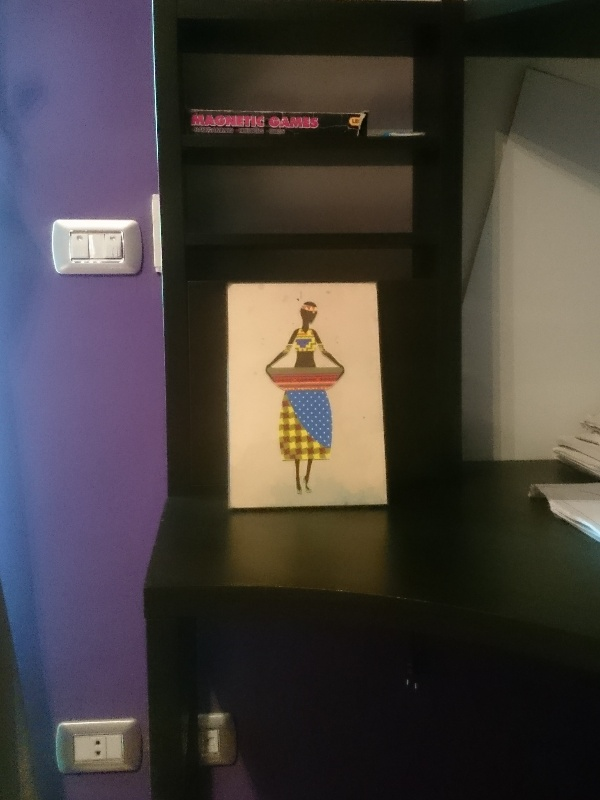my image: (226, 284, 384, 508)
